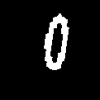chain: (44, 14, 68, 69)
